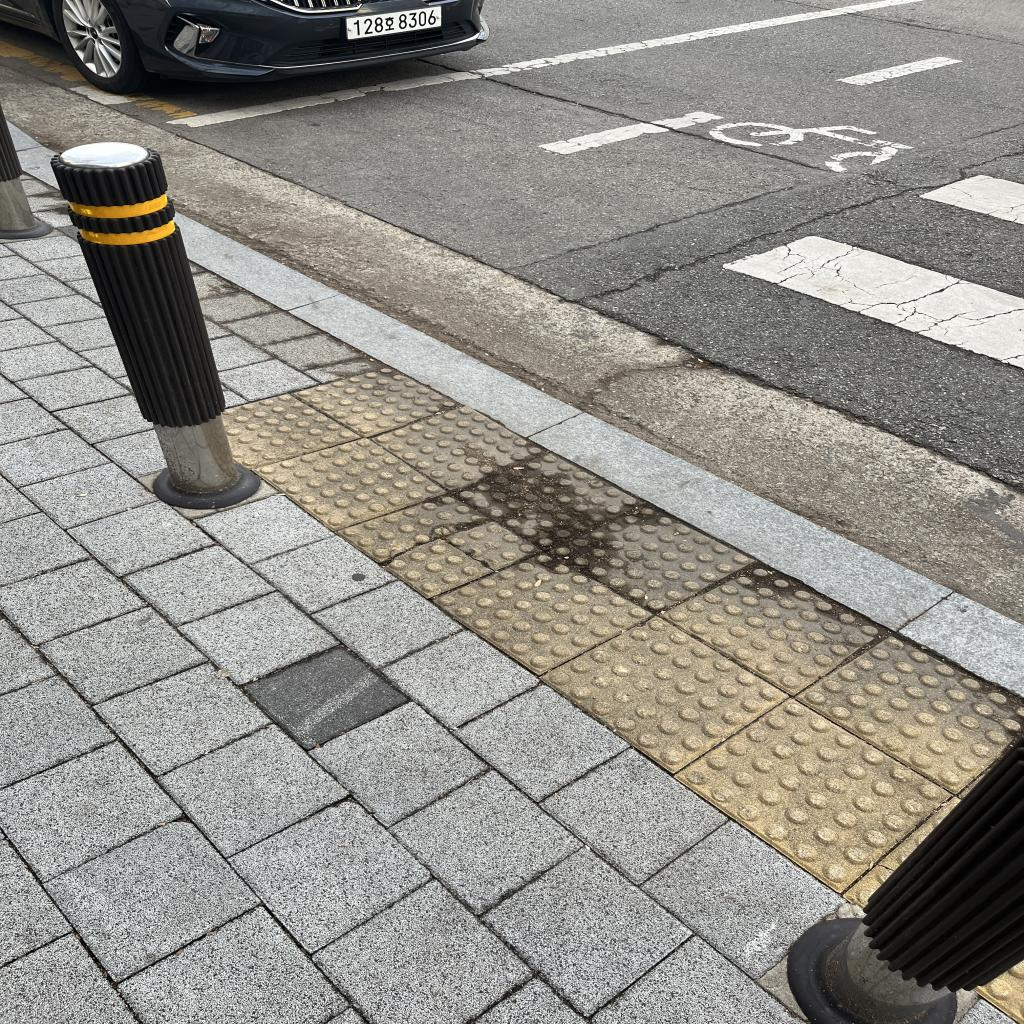Stop block broken: (340, 466, 539, 618)
Stop block normal: (536, 581, 787, 802), (658, 536, 884, 717), (437, 514, 652, 699), (547, 477, 754, 642), (457, 426, 642, 570)
